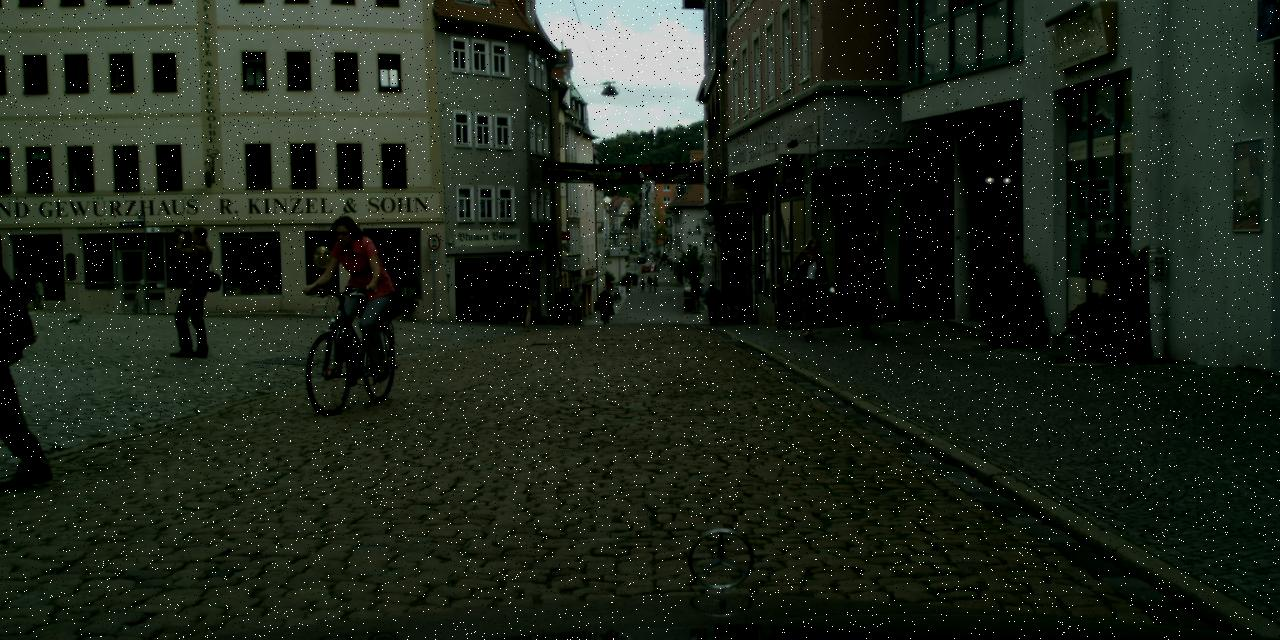ped: (321, 215, 385, 372), (169, 225, 224, 358), (790, 237, 832, 340), (845, 241, 884, 337), (514, 266, 540, 330), (702, 280, 720, 324), (568, 283, 584, 324), (556, 288, 572, 324), (598, 290, 611, 319), (646, 275, 652, 292), (652, 276, 658, 292), (639, 276, 645, 291)
